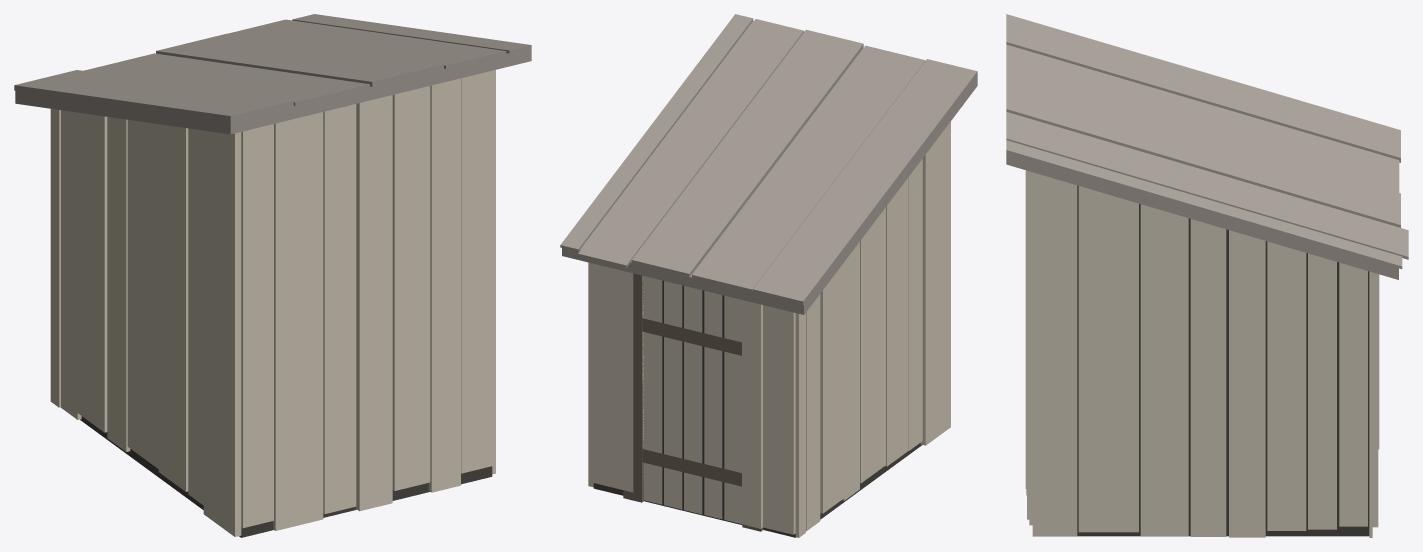
File: recon_1835_north_a3_051__inferred_1835.glb
The picture shows the model from 3 angles, left to right: view 1: azimuth 30°, elevation 25°; view 2: azimuth 150°, elevation 25°; view 3: azimuth 270°, elevation 25°; orthographic projection. The views are drawn at different scales.
Visible parts, largest first — view 1: recon_1835_north_a3_051__inferred_1835; view 2: recon_1835_north_a3_051__inferred_1835; view 3: recon_1835_north_a3_051__inferred_1835.
Part boxes in pixels (box(x1,y1,x2,y2)): recon_1835_north_a3_051__inferred_1835: box(14, 14, 531, 537); recon_1835_north_a3_051__inferred_1835: box(560, 14, 977, 537); recon_1835_north_a3_051__inferred_1835: box(1006, 14, 1408, 537).
Bounding box in the file's own units: 2.08 × 2.89 × 2.64.
